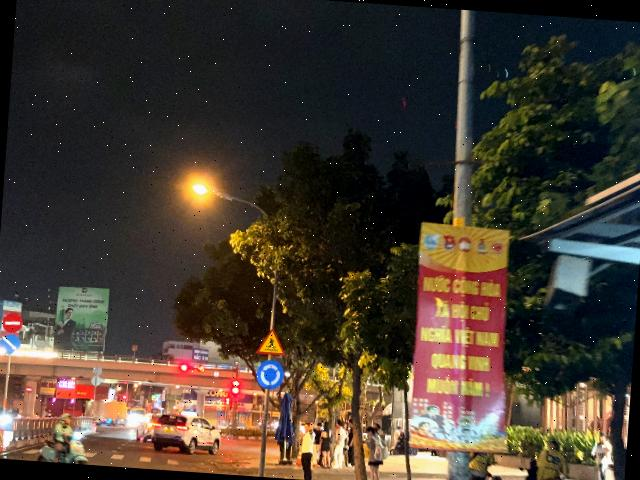cam-di-nguoc-chieu: (1, 310, 24, 333)
duong-nguoi-di-bo-cat-ngang: (254, 326, 286, 356)
huong-phai-di-vong-chuong-ngai-vat: (0, 333, 21, 354)
noi-giao-nhau-chay-theo-vong-xuyen: (255, 360, 284, 390)
